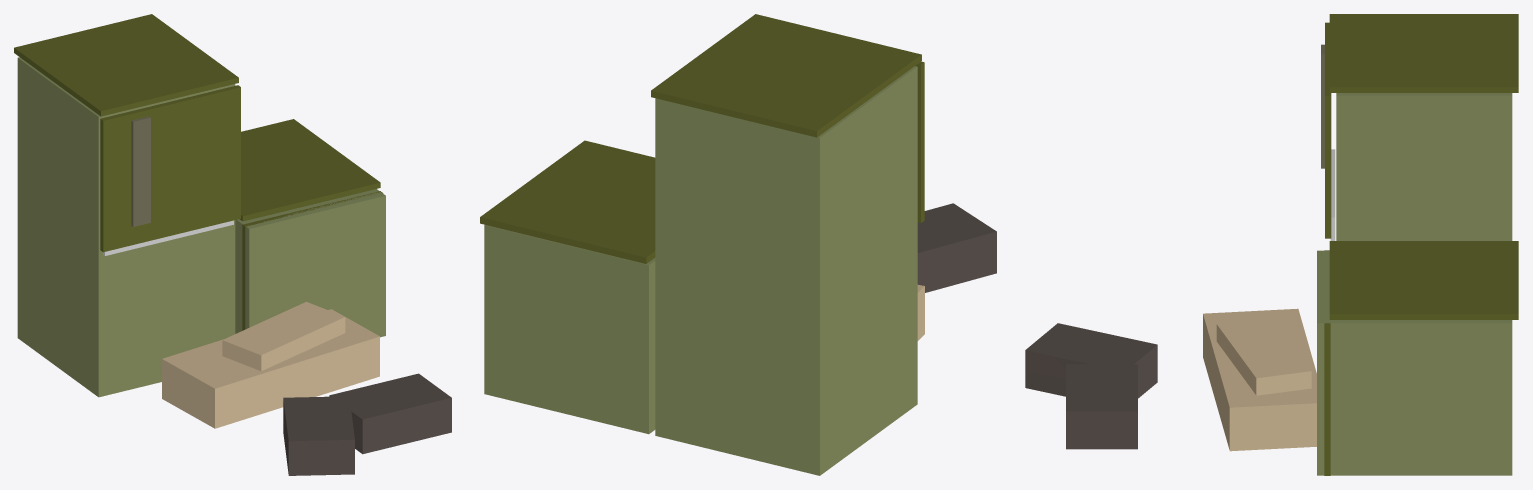
File: SM_HescoCorto2_v4_Red_e1_Danado_LOD1.fbx
The picture shows the model from 3 angles, left to right: view 1: azimuth 30°, elevation 25°; view 2: azimuth 150°, elevation 25°; view 3: azimuth 270°, elevation 25°; orthographic projection. The views are drawn at different scales.
Parts seen in each view (by area): view 1: SM_hesco_piezas_v77_LOD1; view 2: SM_hesco_piezas_v77_LOD1; view 3: SM_hesco_piezas_v77_LOD1.
Part boxes in pixels (x1=…): SM_hesco_piezas_v77_LOD1: x1=14, y1=14, x2=451, y2=475; SM_hesco_piezas_v77_LOD1: x1=480, y1=14, x2=996, y2=475; SM_hesco_piezas_v77_LOD1: x1=1025, y1=14, x2=1518, y2=475.
Size of the model in its own units: 2.19 by 2.16 by 3.08.
